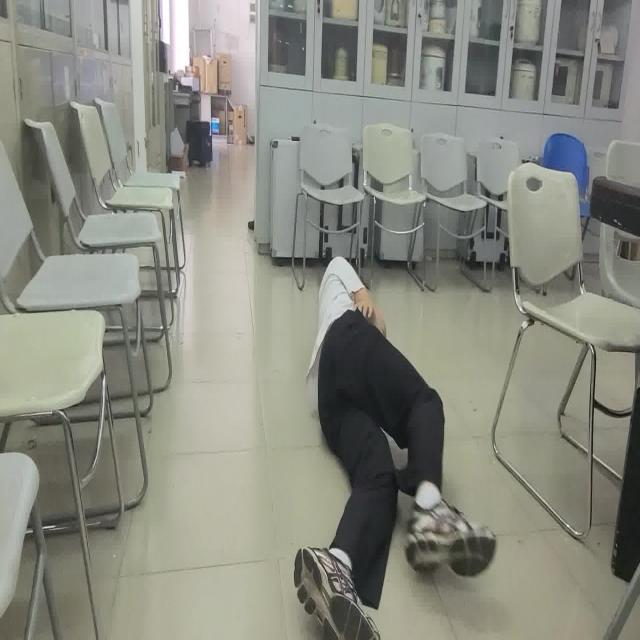Fall-Detected: (293, 251, 497, 640)
